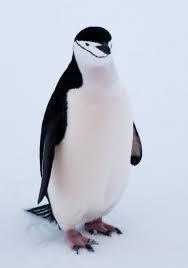chinstrap: (27, 13, 152, 259)
